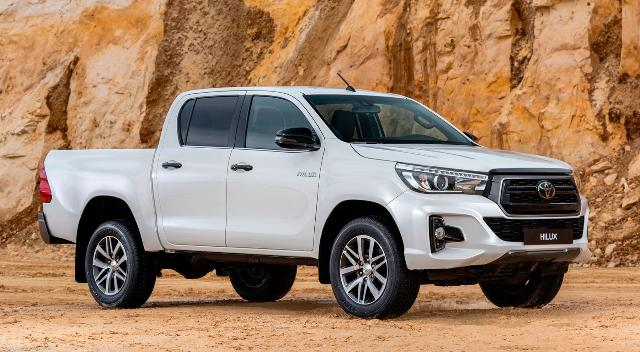pickup-truck: (40, 85, 587, 319)
